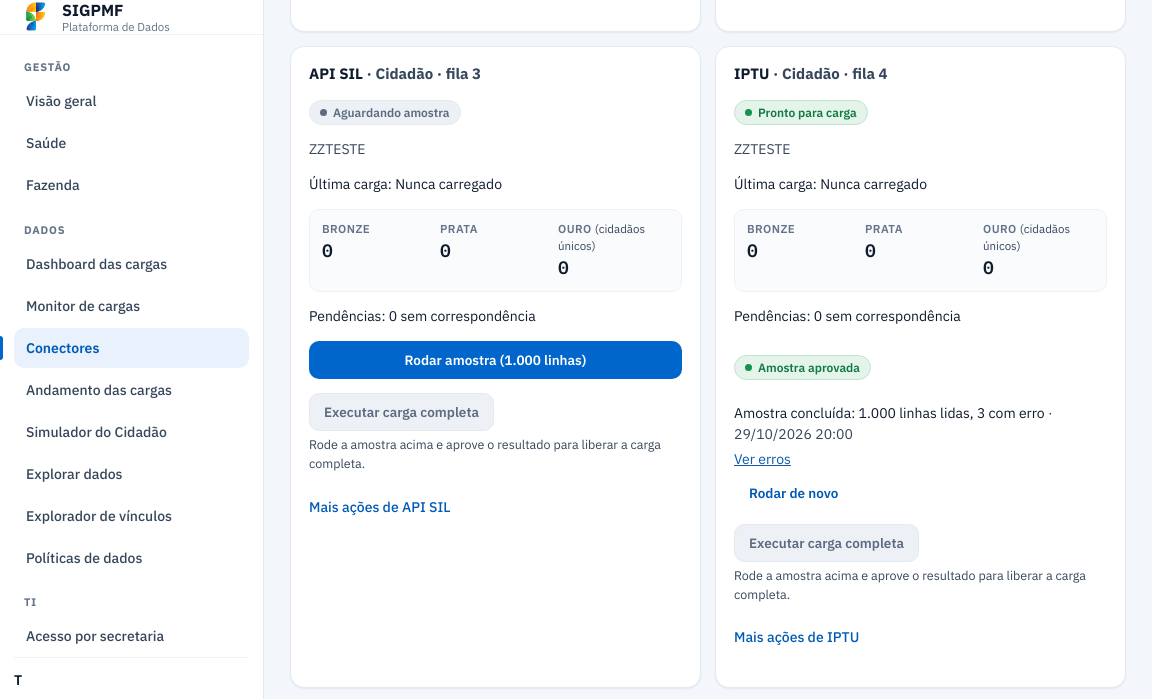
Scenario: amostra obrigatória no card (PR-A) › UXA4: amostra com falha mostra o motivo e o botão segue ativo
(page scrolled)
Click the button "Rodar amostra (1.000 linhas)".
click(496, 360)  # box [309, 341, 682, 379]
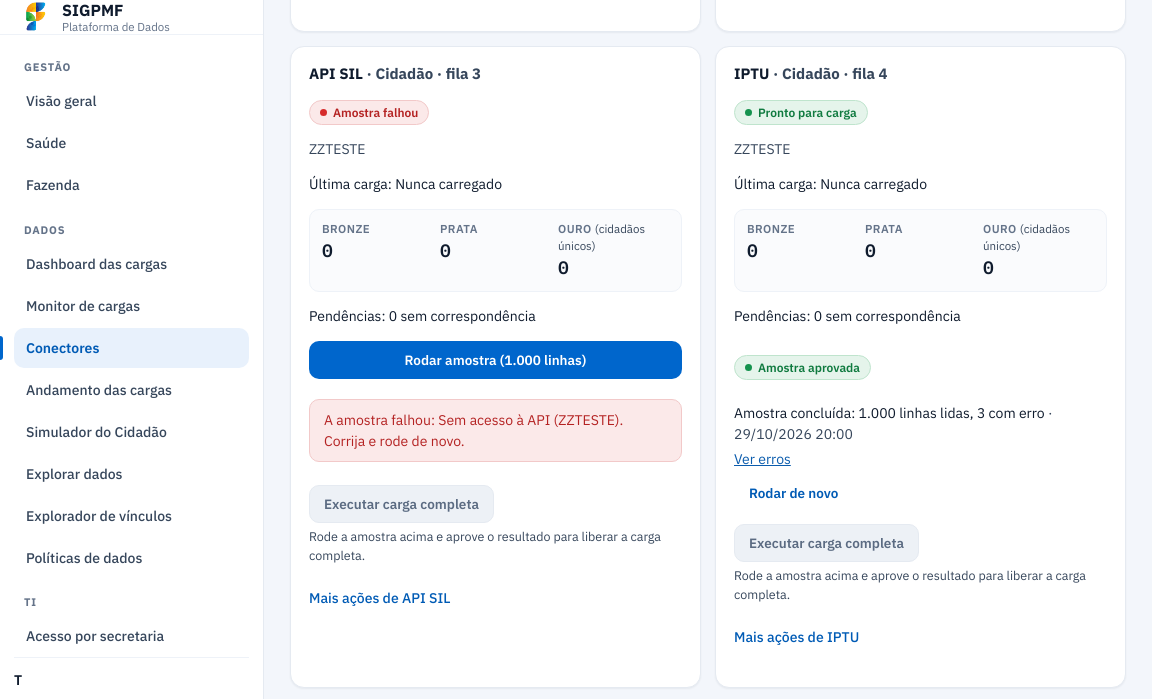
Now the text "A amostra falhou: Sem acesso à API (ZZTESTE). Corrija e rode de novo." is shown, box [309, 399, 682, 462]
